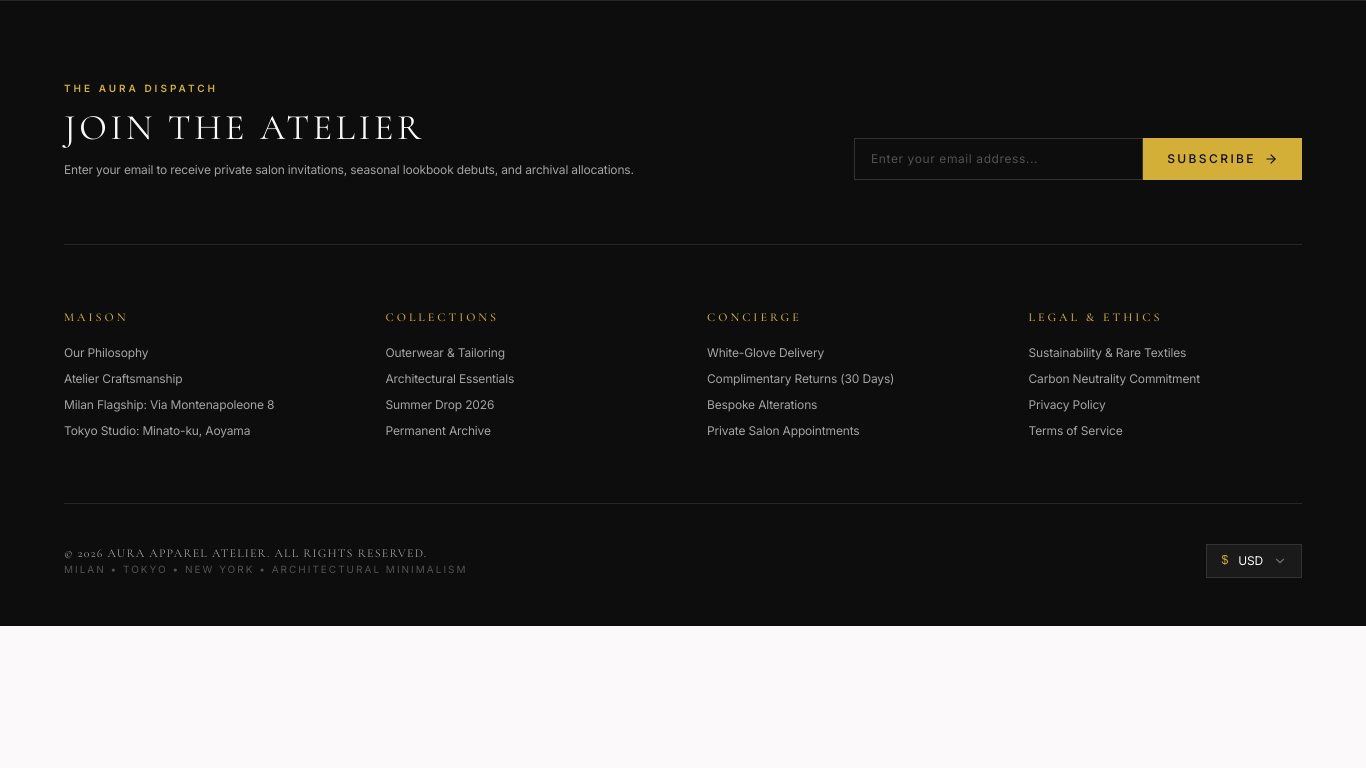
Test case: Milestone 1: Aura Apparel Responsive Shell Suite › Footer Component › validates malformed email strings via strict regex
The image size is (1366, 768).
(page scrolled)
Type "invalid-email-string" into the field with test id "newsletter-input".
click(999, 158); type("invalid-email-string")  # box [854,138,1143,180]
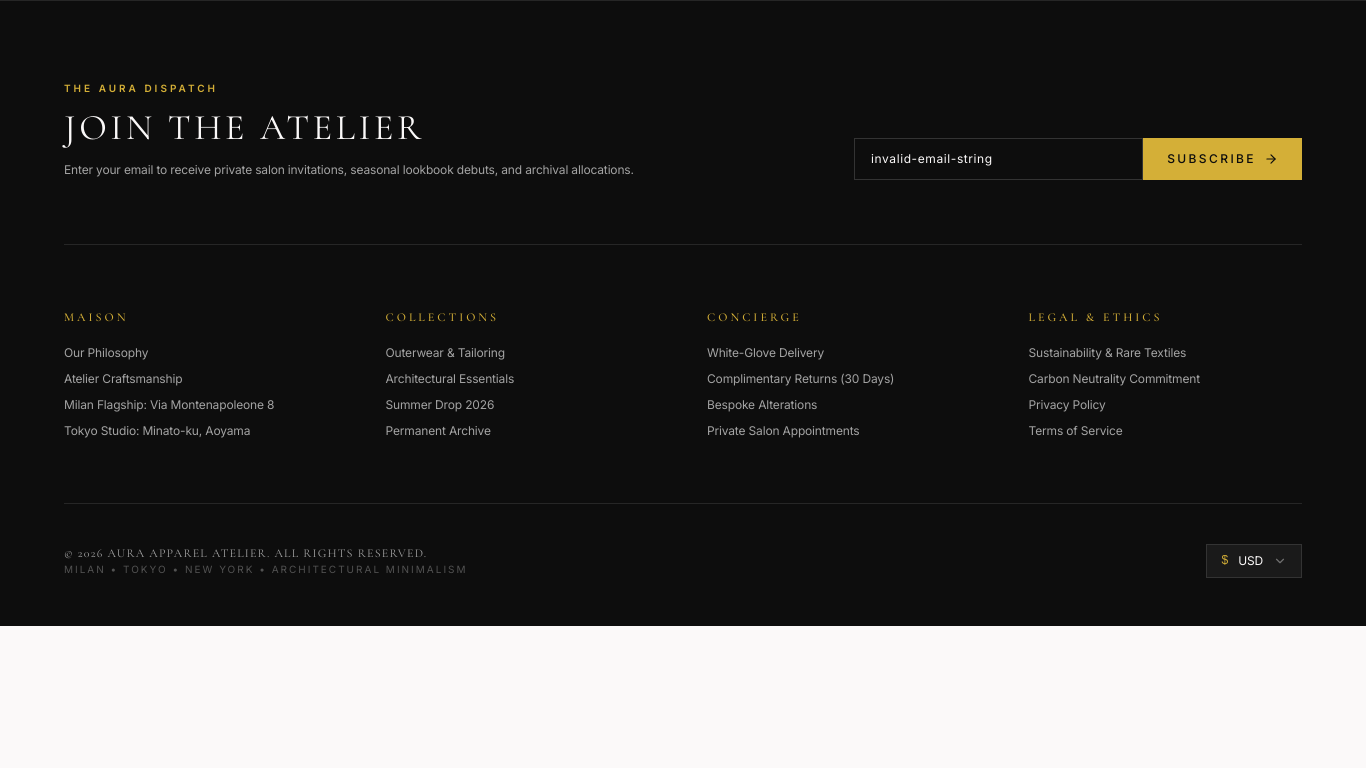
Click the button with test id "newsletter-submit".
click(1223, 158)  # box [1143,138,1302,180]
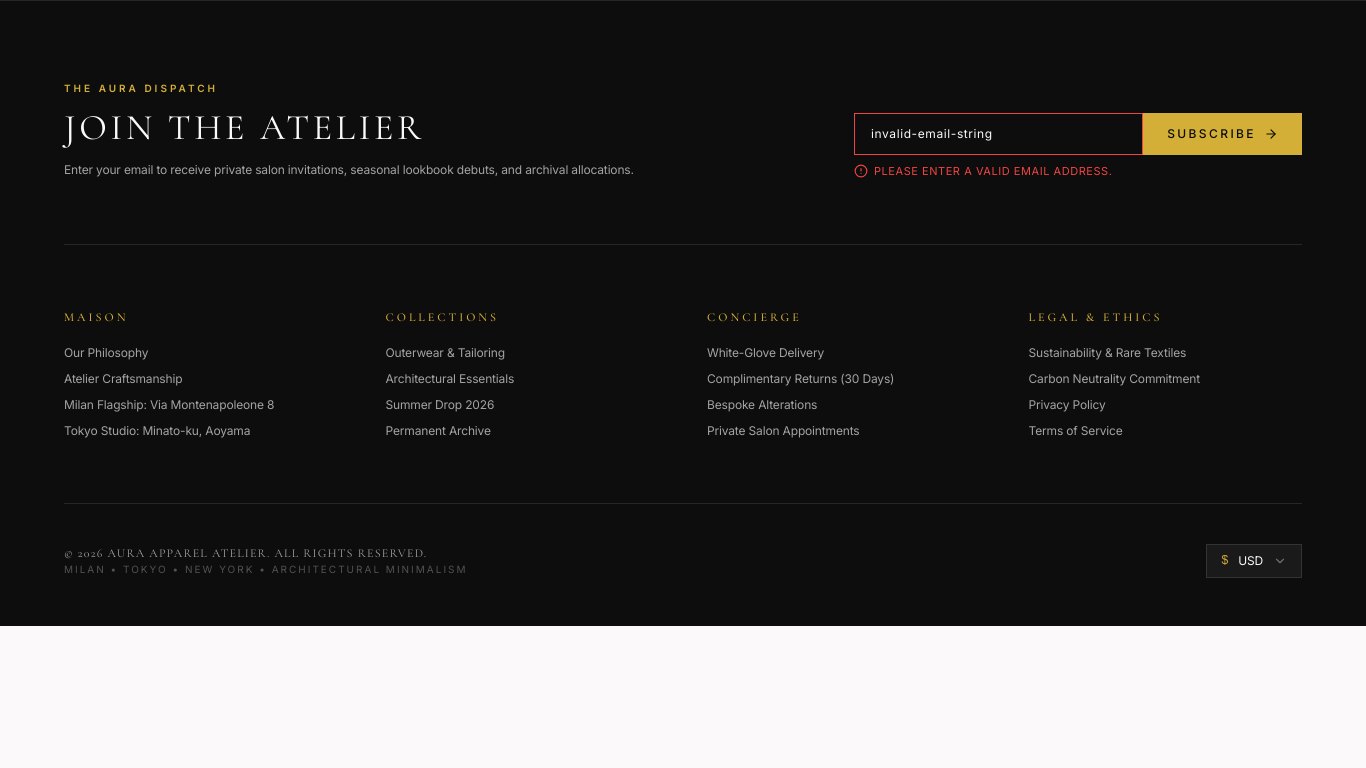
Expected: the message "Please enter a valid email address." is shown, [854,164,1112,178]
Expected: the message with test id "newsletter-error" shows "Please enter a valid email address", [874,164,1112,178]
